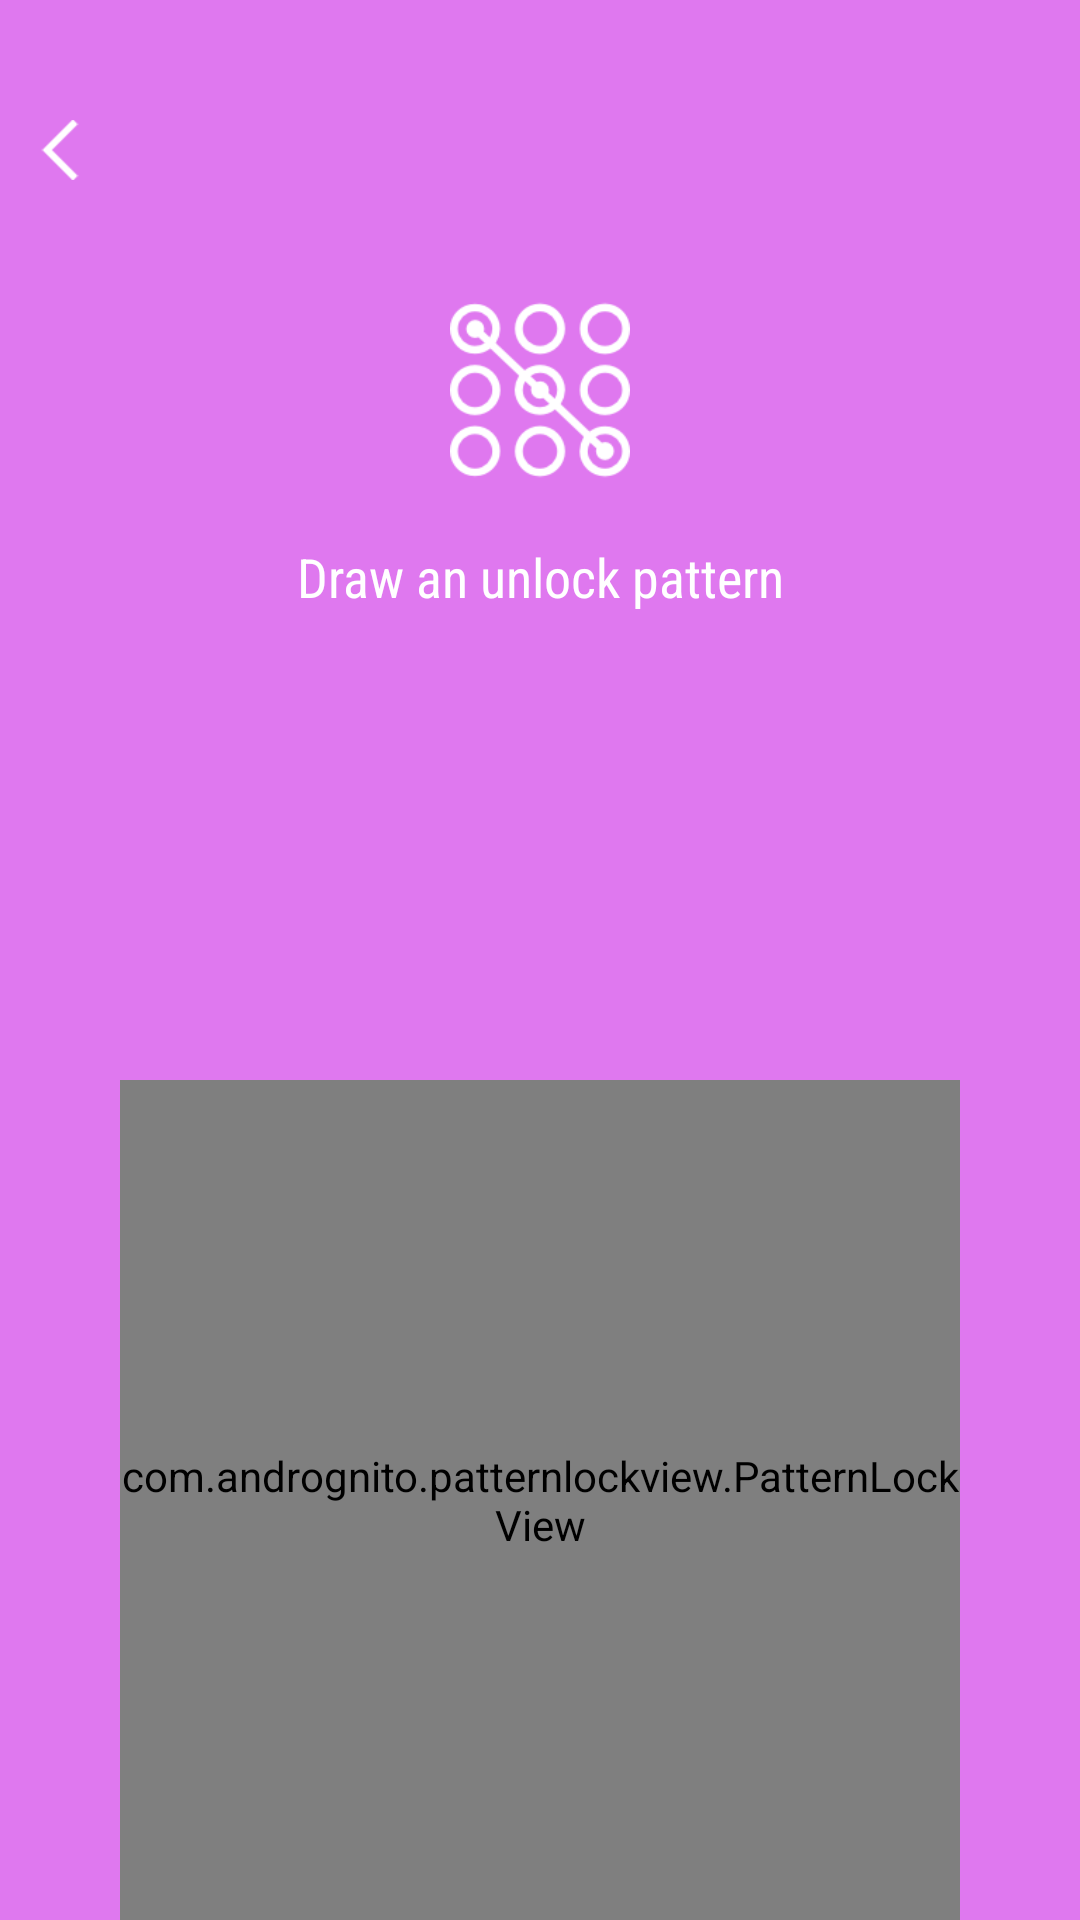

Icons on this 1080w x 1920h Android screen, each with its box as (x1,y1,x2,y2):
title arrow: (42,120,78,180)
